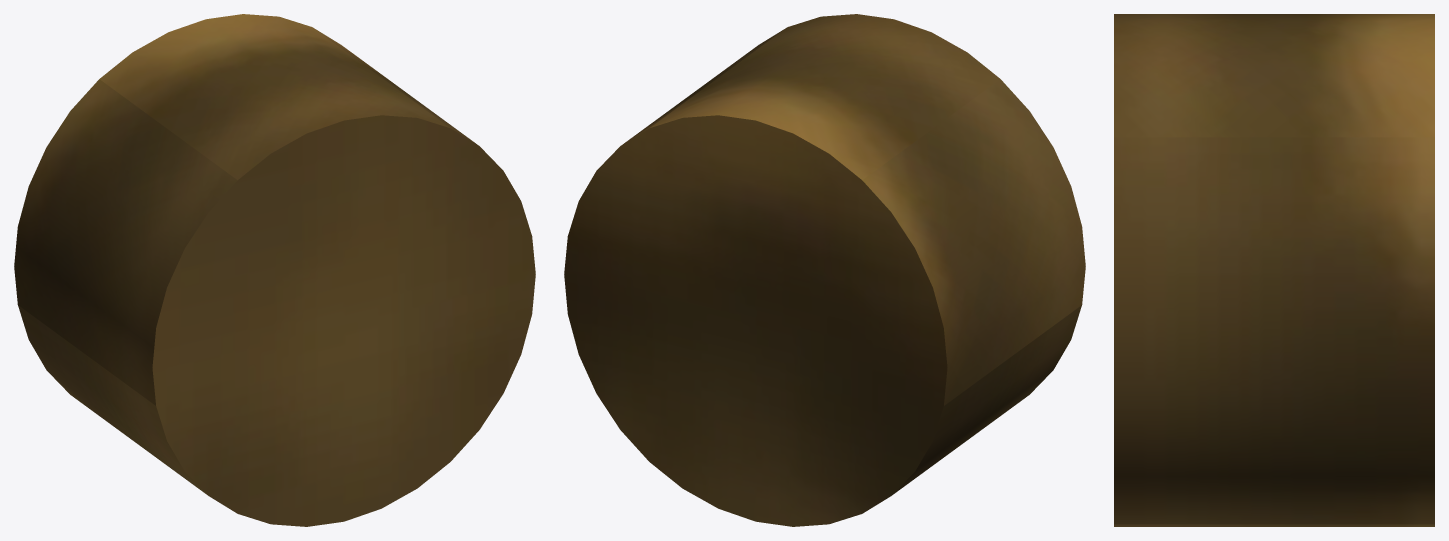
File: body__vane_1_lower_mount.glb
3 views of the same model, side by side, from view 1: azimuth 30°, elevation 25°; view 2: azimuth 150°, elevation 25°; view 3: azimuth 270°, elevation 25° (orthographic). The views are drawn at different scales.
Visible parts, largest first — view 1: geometry_0; view 2: geometry_0; view 3: geometry_0.
Part boxes in pixels (x1,y1,x2,y2): geometry_0: (14, 14, 535, 526); geometry_0: (564, 14, 1085, 526); geometry_0: (1114, 14, 1434, 526).
Size of the model in its own units: 0.0064 by 0.0064 by 0.004.
1 material, 1 textured.
